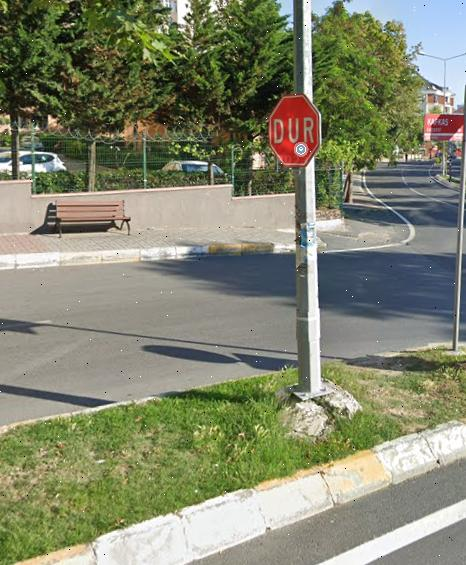stop: (272, 95, 319, 166)
